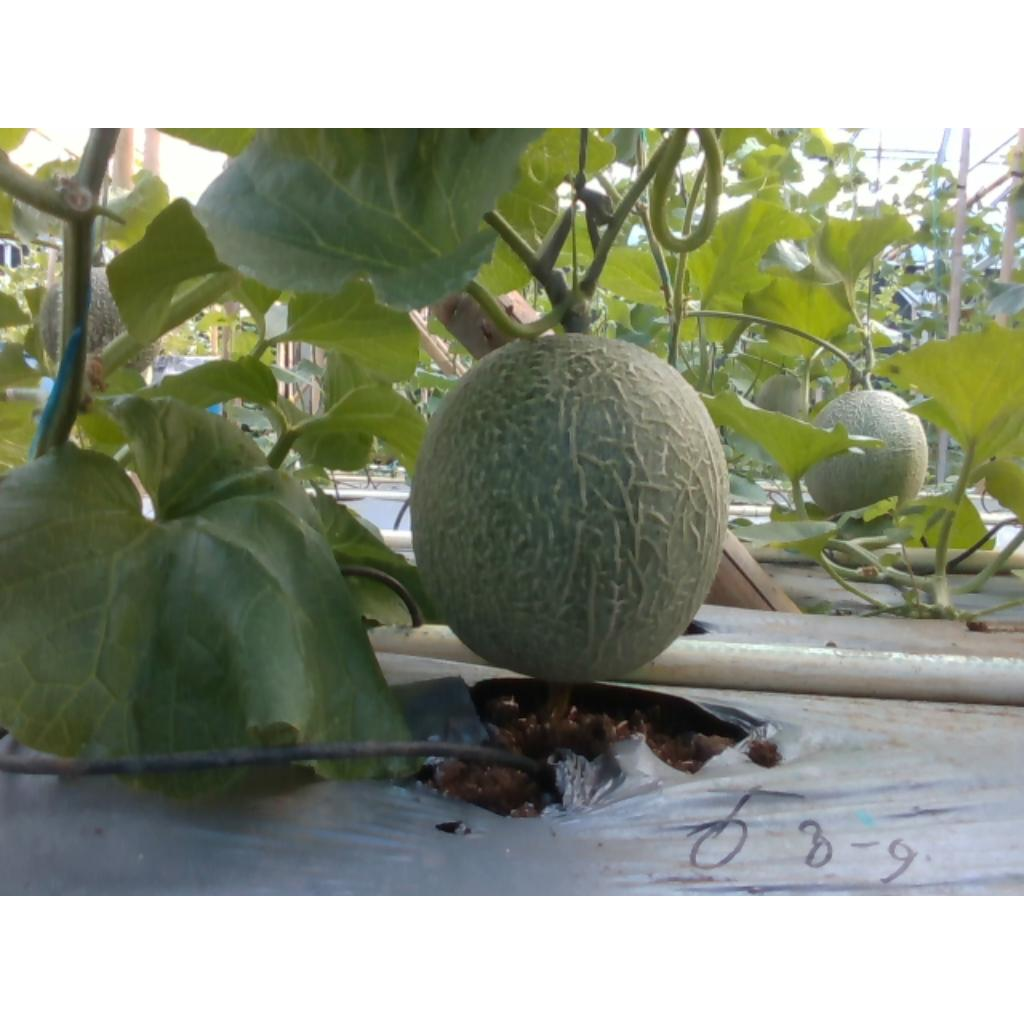melon: (413, 333, 730, 682)
